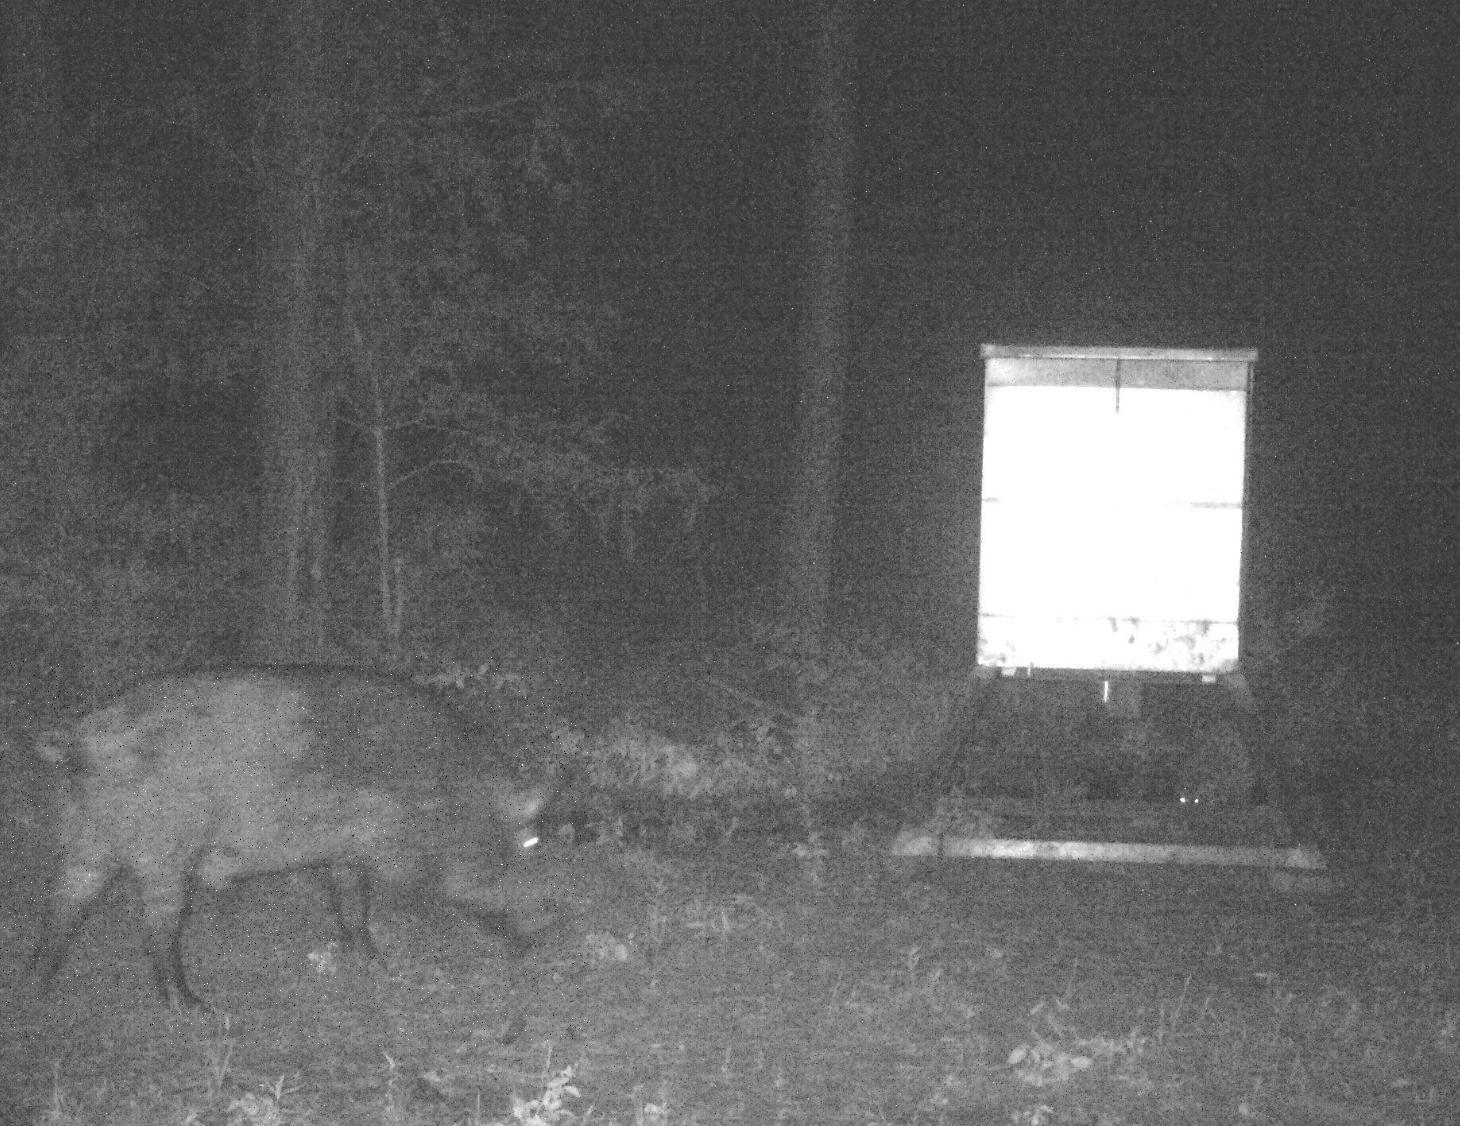Hog: (0, 656, 590, 1046)
